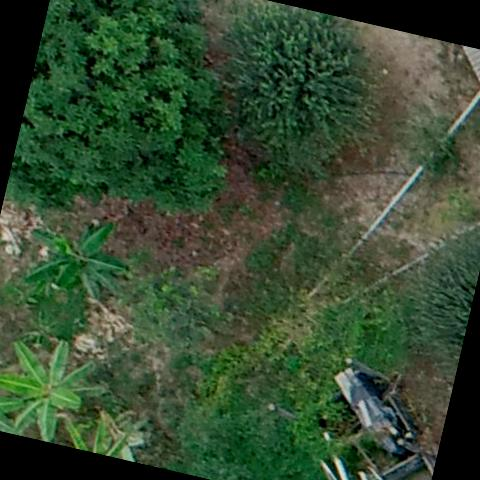Banana-plant: (0, 321, 117, 452), (8, 202, 140, 318)
